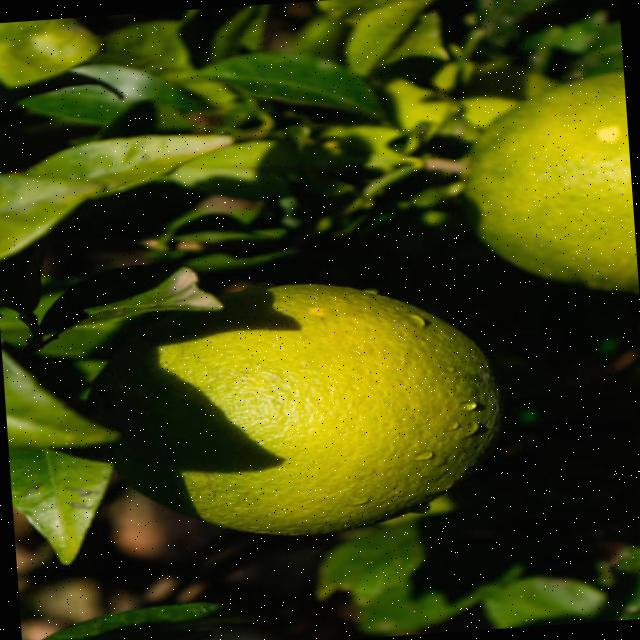Unripe: (79, 268, 508, 546), (452, 72, 638, 298)
